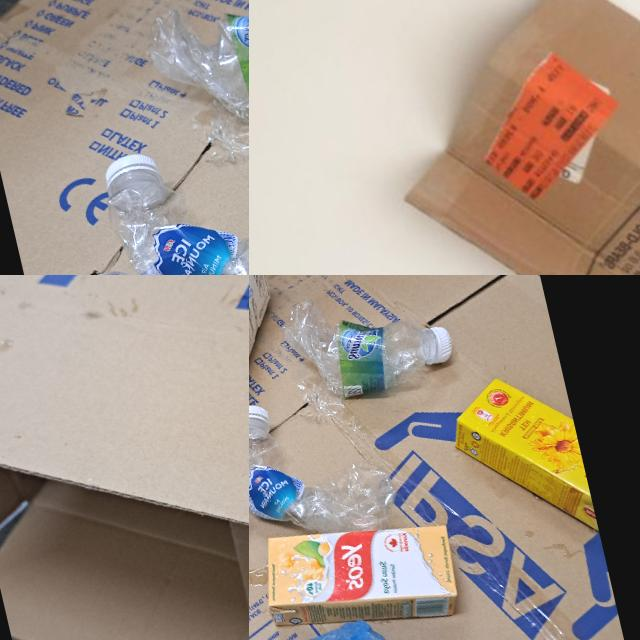caixinha: (442, 363, 600, 558), (256, 497, 463, 640)
garrafa plástica: (249, 375, 399, 548), (100, 107, 249, 275), (280, 276, 460, 409), (138, 0, 249, 144)
papelão: (249, 275, 633, 640), (0, 275, 249, 640), (362, 0, 640, 275), (0, 0, 249, 275)
sacola plástica: (249, 588, 505, 640)
tampa plástica: (100, 152, 161, 194), (422, 322, 459, 367), (249, 399, 271, 437)
